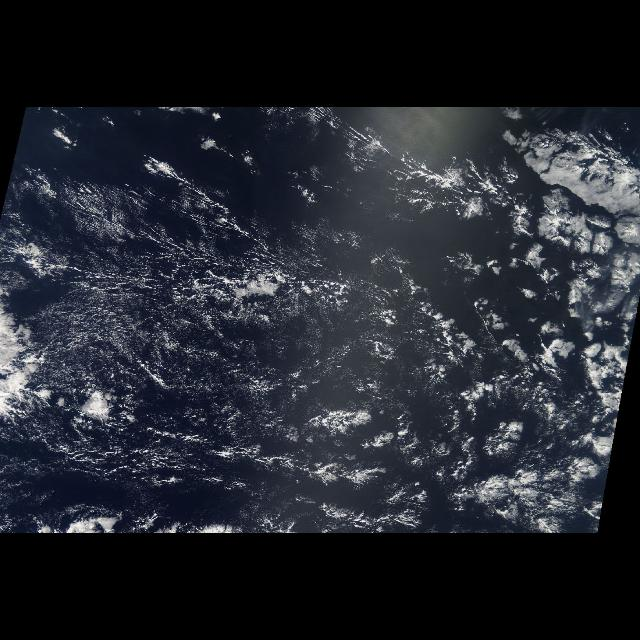Flower: (496, 124, 640, 340)
Sugar: (8, 197, 258, 477)
